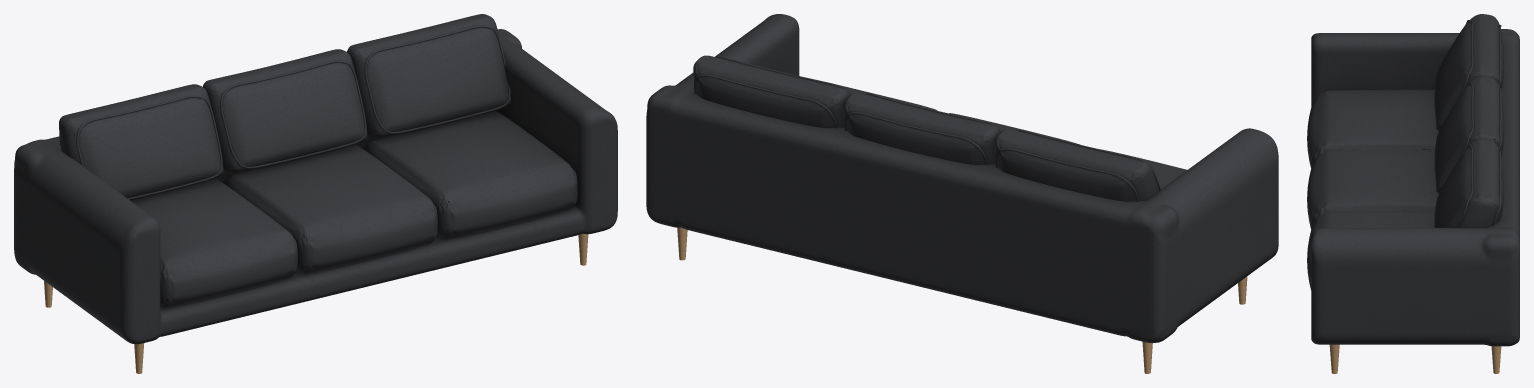
File: chenille-grafito.gltf
3 views of the same model, side by side, from view 1: azimuth 30°, elevation 25°; view 2: azimuth 150°, elevation 25°; view 3: azimuth 270°, elevation 25° (orthographic). The views are drawn at different scales.
Parts seen in each view (by area): view 1: tela_ar, madera_ar; view 2: tela_ar, madera_ar; view 3: tela_ar, madera_ar.
Boxes of the visible parts, x1,y1,x2,y2 form: tela_ar: (14,14,617,344); madera_ar: (44,233,588,373); tela_ar: (646,14,1278,342); madera_ar: (677,227,1247,373); tela_ar: (1307,14,1519,346); madera_ar: (1329,344,1501,373).
Size of the model in its own units: 2.2 by 0.8095 by 0.9156.
Materials: 2 (2 with a texture image).
